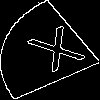X: (25, 25, 97, 81)
